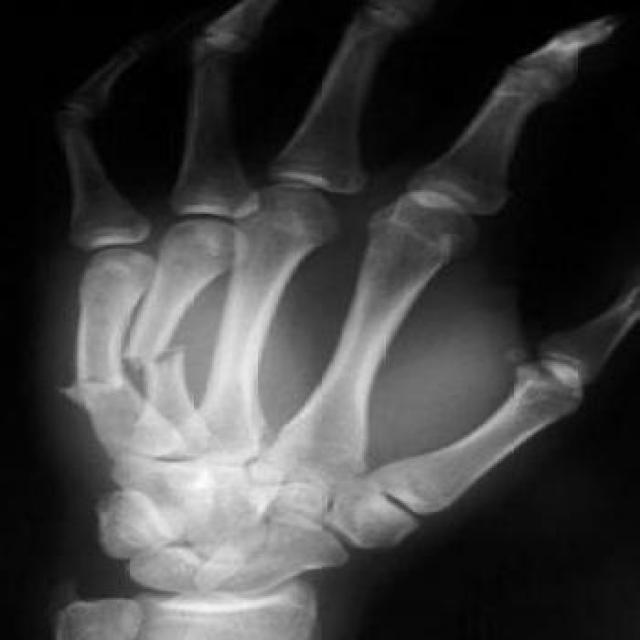Fracture: (137, 328, 206, 380), (55, 367, 123, 406)
